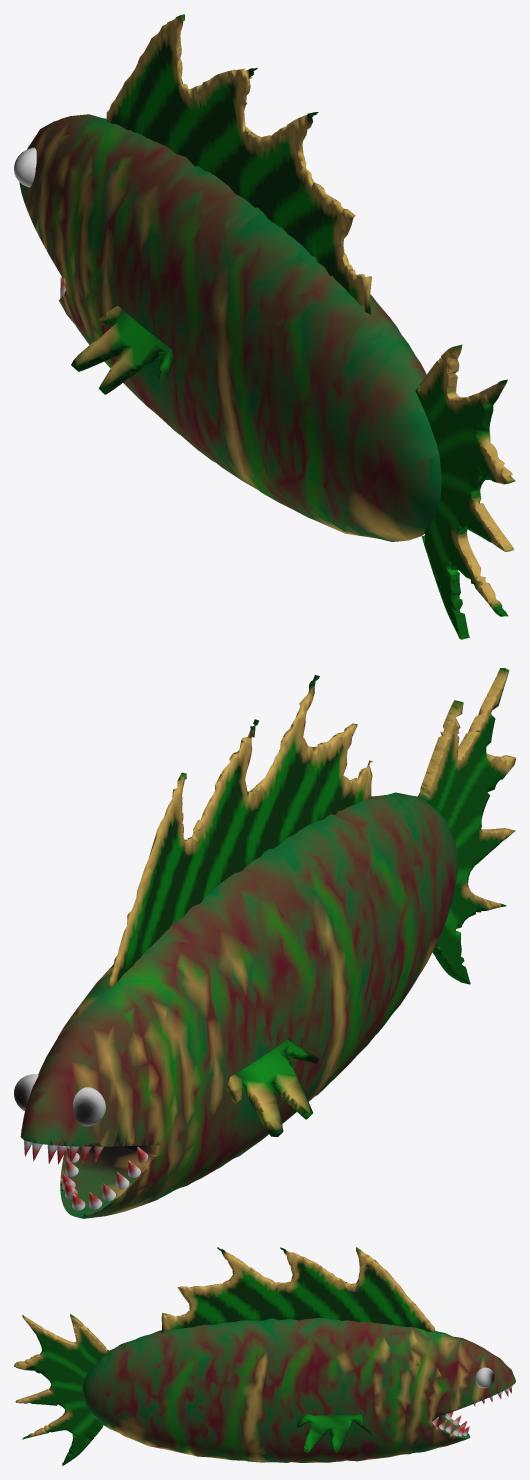
File: Fish_v1.fbx
The picture shows the model from 3 angles, top to bottom: view 1: azimuth 30°, elevation 25°; view 2: azimuth 150°, elevation 25°; view 3: azimuth 270°, elevation 25°; orthographic projection. The views are drawn at different scales.
Visible parts, largest first — view 1: Cuerpo, AletaSup, AletaTras, AletasLat, Ojos; view 2: Cuerpo, AletaSup, AletaTras, AletasLat, Dientes, Ojos; view 3: Cuerpo, AletaSup, AletaTras, AletasLat, Dientes, Ojos.
Boxes of the visible parts, <box> form: Cuerpo: <box>19,114,441,541</box>; AletaSup: <box>106,14,371,314</box>; AletaTras: <box>415,344,515,639</box>; AletasLat: <box>71,306,173,394</box>; Ojos: <box>14,147,36,187</box>; Cuerpo: <box>20,792,457,1218</box>; AletaSup: <box>108,675,372,989</box>; AletaTras: <box>418,668,515,984</box>; AletasLat: <box>226,1038,319,1136</box>; Dientes: <box>24,1140,148,1210</box>; Ojos: <box>14,1074,105,1126</box>; Cuerpo: <box>82,1318,515,1462</box>; AletaSup: <box>161,1247,435,1332</box>; AletaTras: <box>14,1314,109,1465</box>; AletasLat: <box>297,1414,371,1454</box>; Dientes: <box>432,1386,512,1436</box>; Ojos: <box>475,1367,494,1388</box>.
Size of the model in its own units: 0.2399 by 0.4564 by 0.9592.
